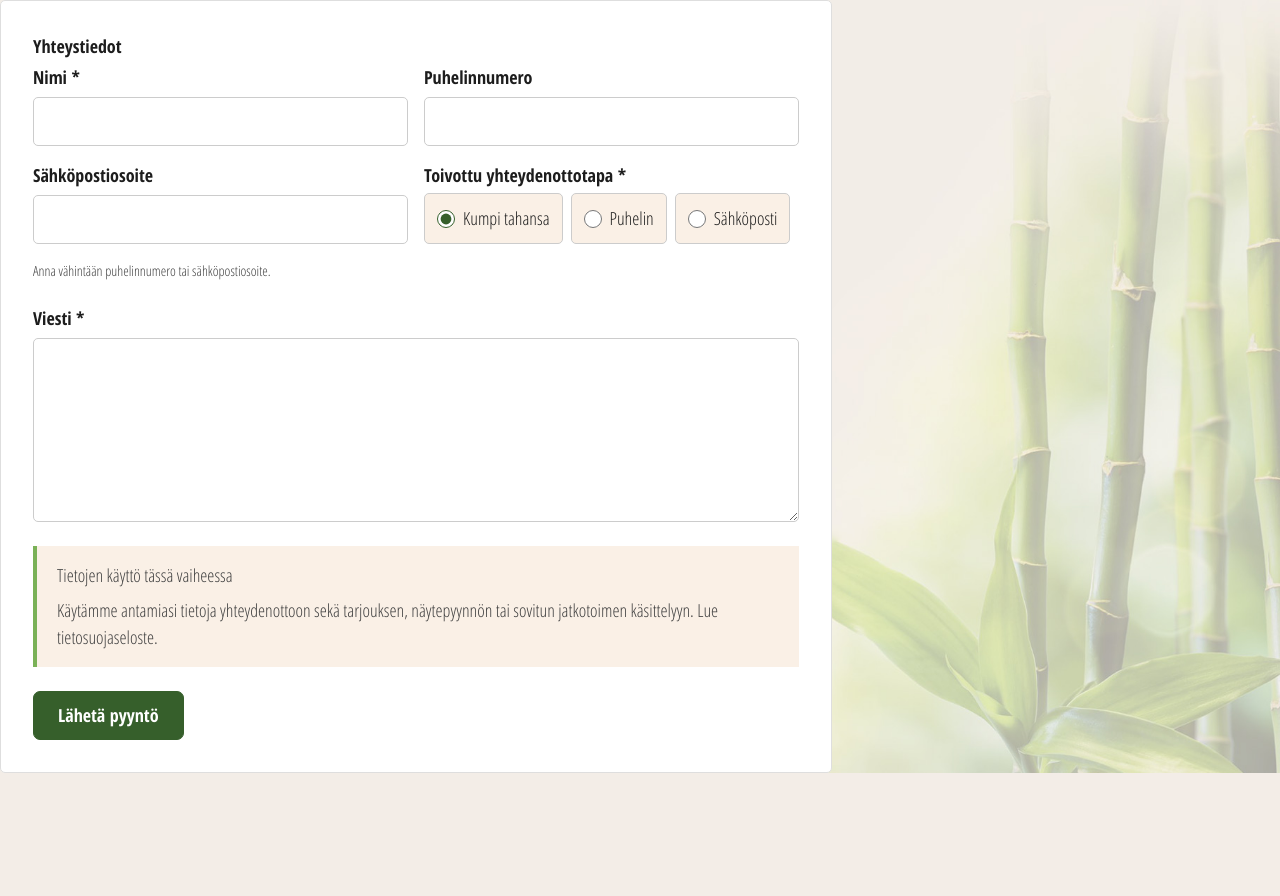
Test: inquiry form interaction states › maps server field errors to an accessible summary and focuses the first invalid control
The image size is (1280, 896).
In the field labelled "Nimi *": (220, 122) x1=33 y1=97 x2=408 y2=146, type "Maija Meikäläinen"
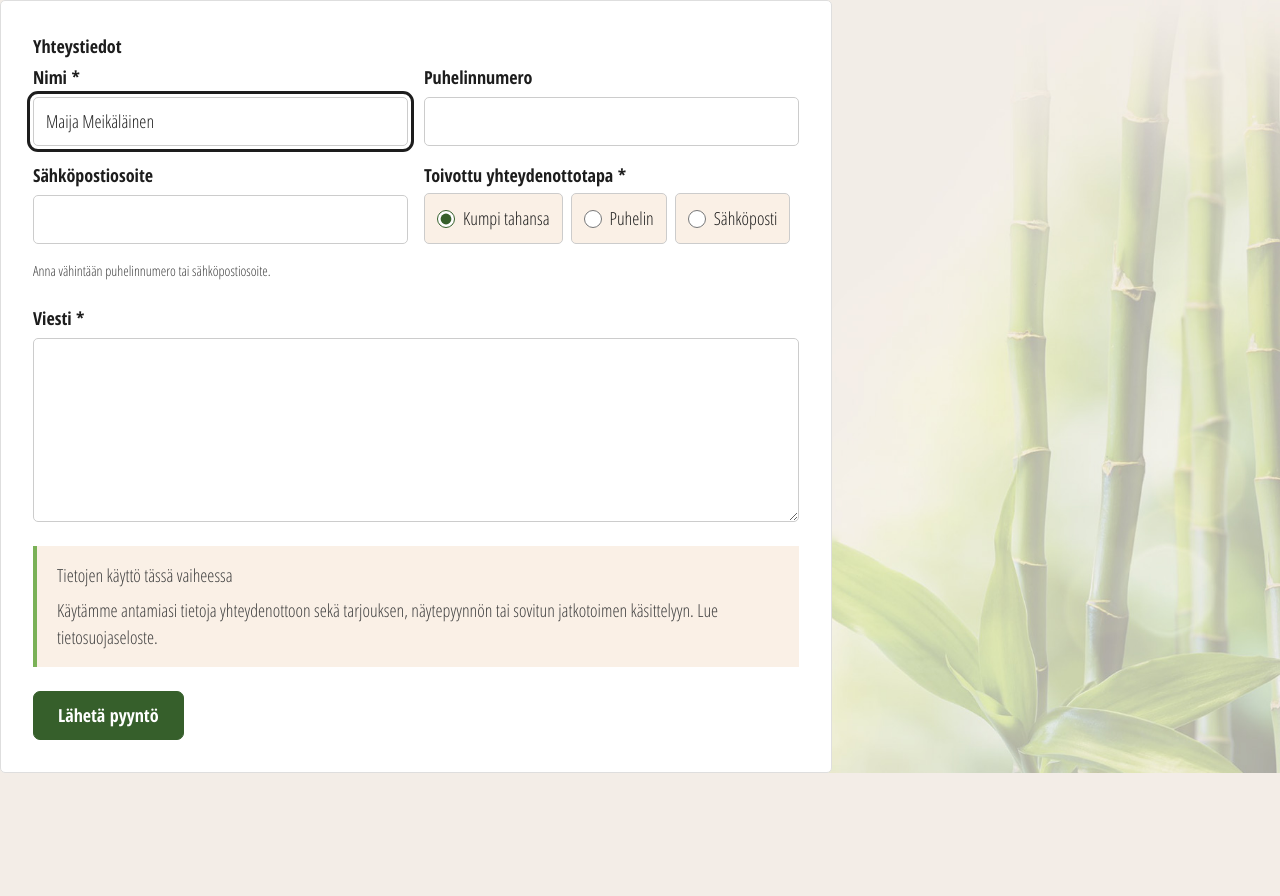
In the field labelled "Sähköpostiosoite": (220, 220) x1=33 y1=195 x2=408 y2=244, type "maija@example.fi"
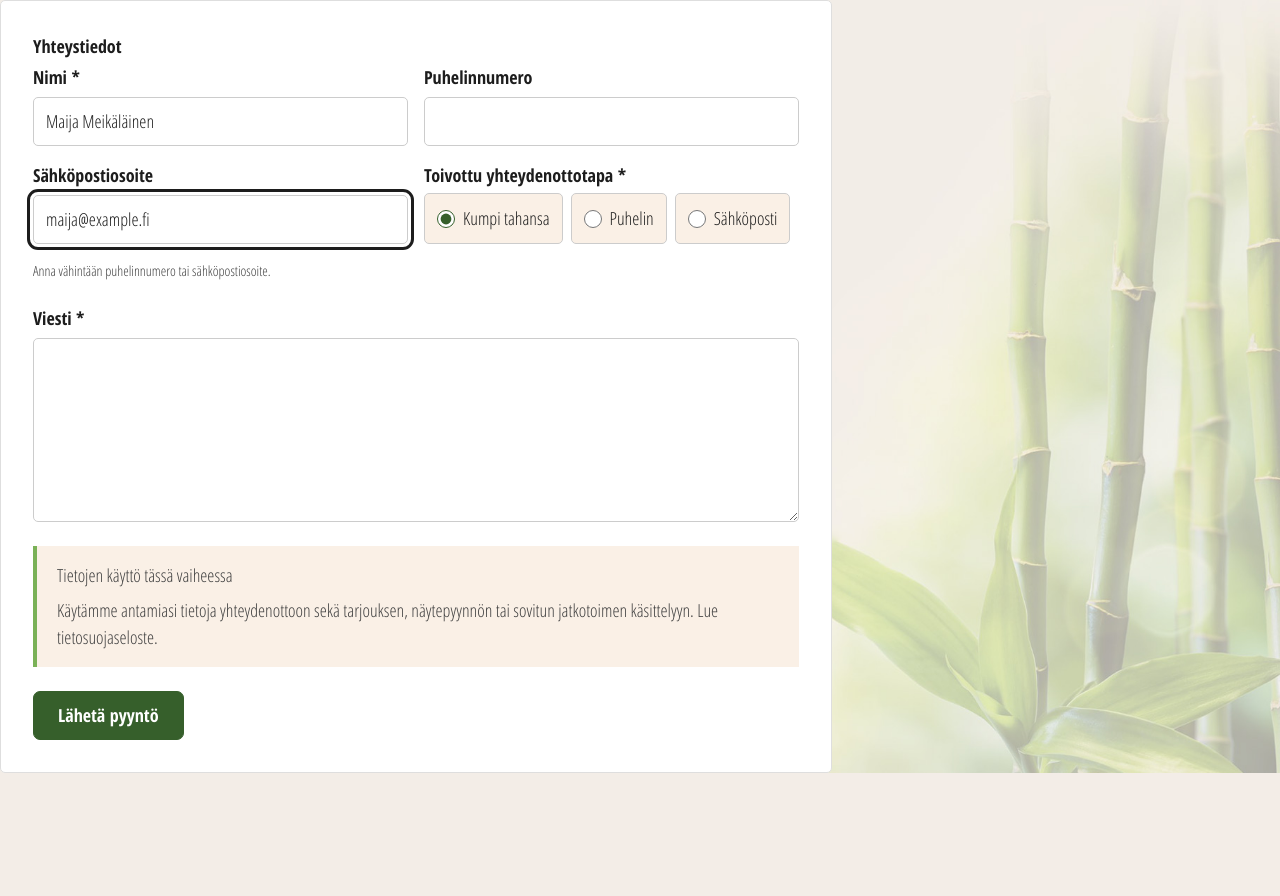
In the text box labelled "Viesti *": (416, 430) x1=33 y1=338 x2=799 y2=522, type "Tarvitsen lisätietoja."
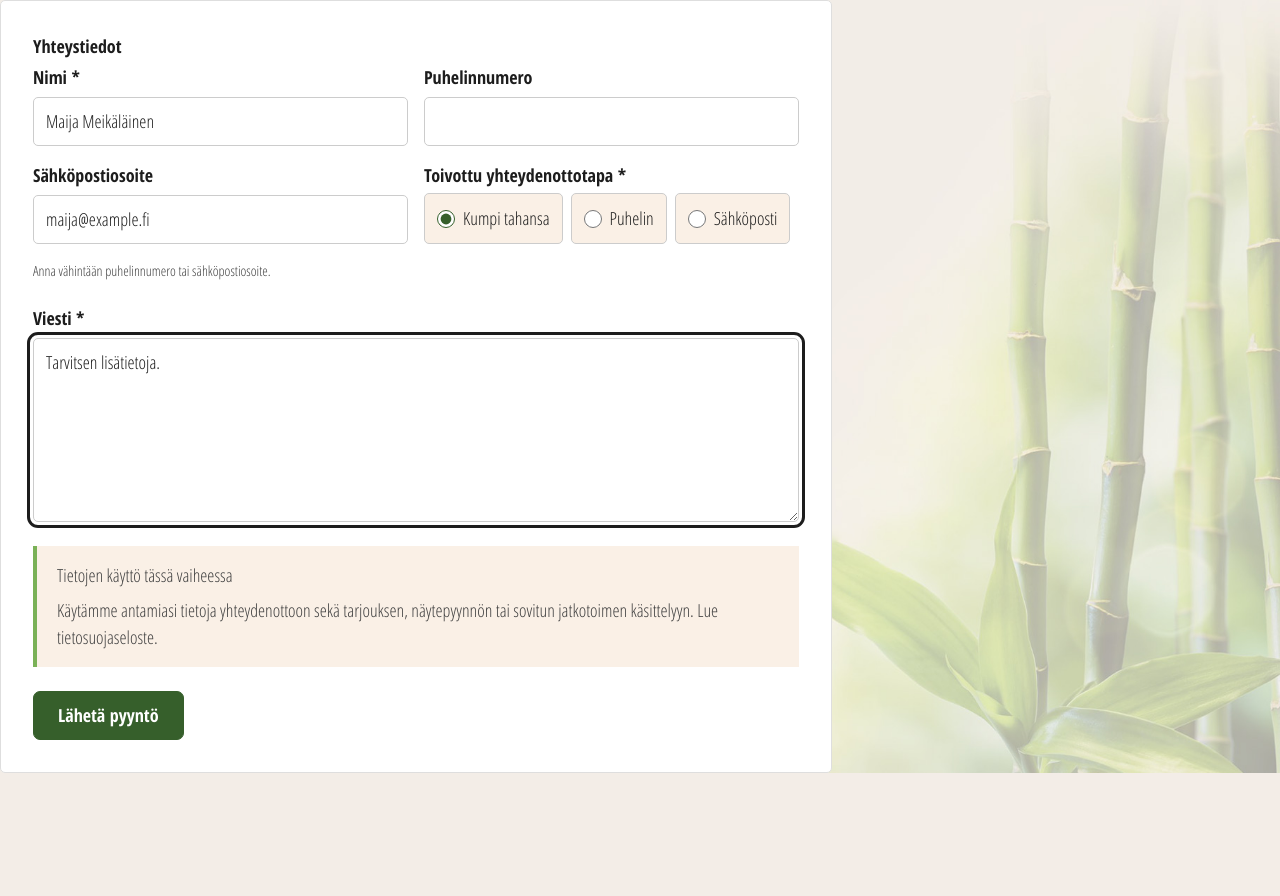
Click the button "Lähetä pyyntö": (108, 716) x1=33 y1=691 x2=184 y2=740
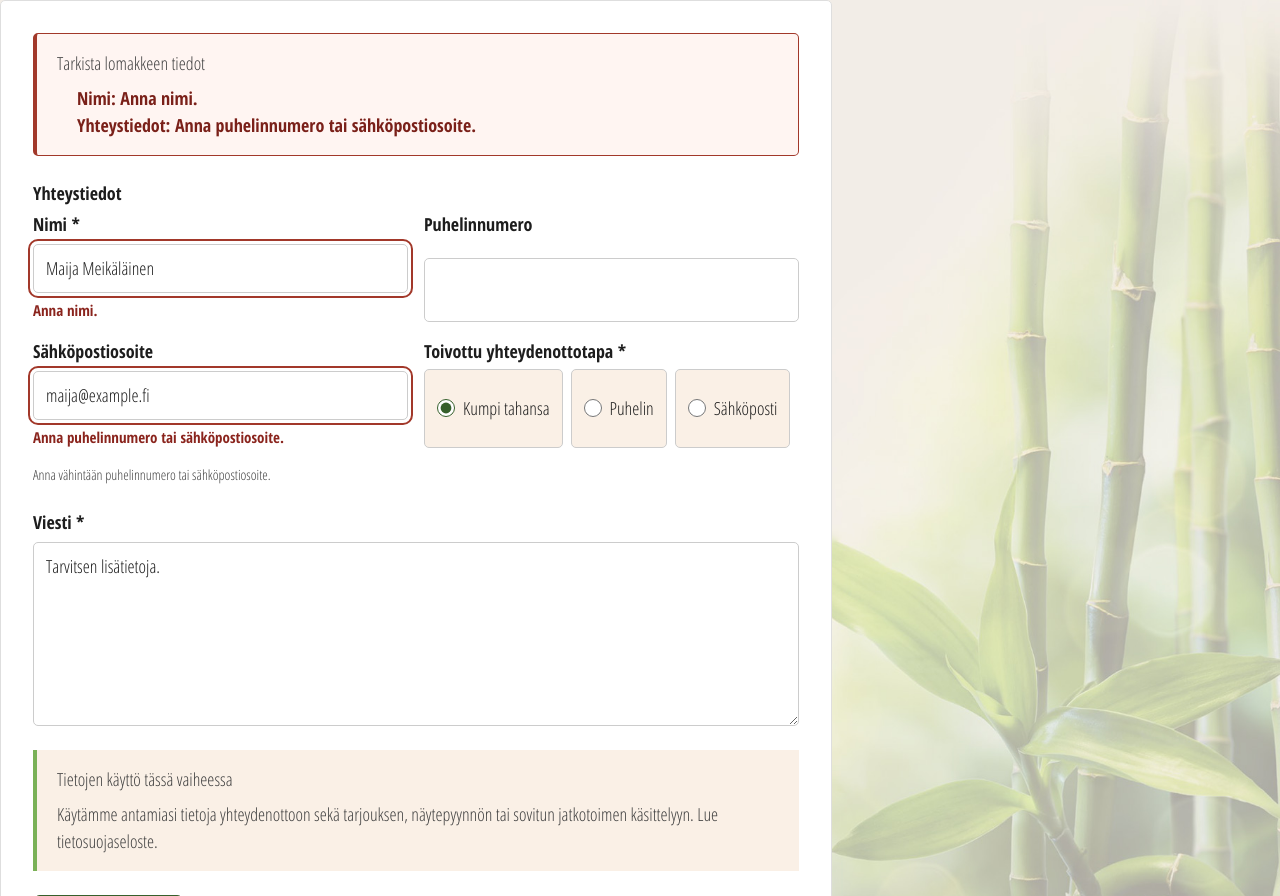
Check: the message shows "Tarkista lomakkeen tiedot", box x1=57 y1=51 x2=205 y2=75
Check: the message shows "Anna nimi.", box x1=77 y1=86 x2=198 y2=110
